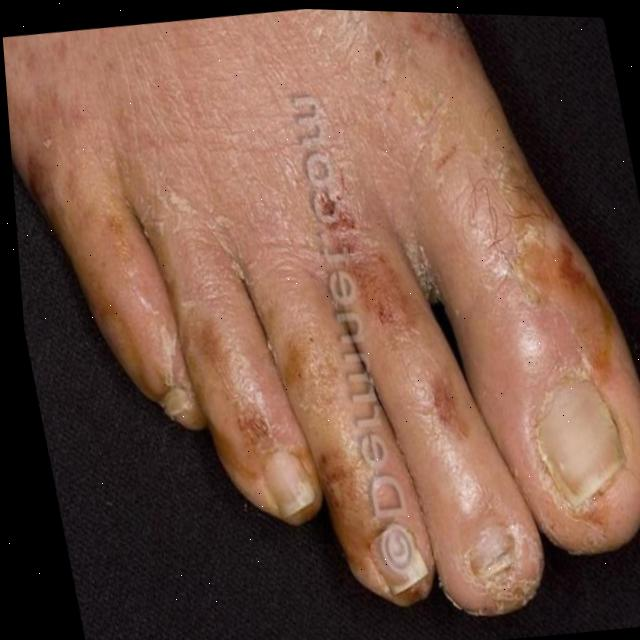Eczema: (147, 84, 640, 555)
